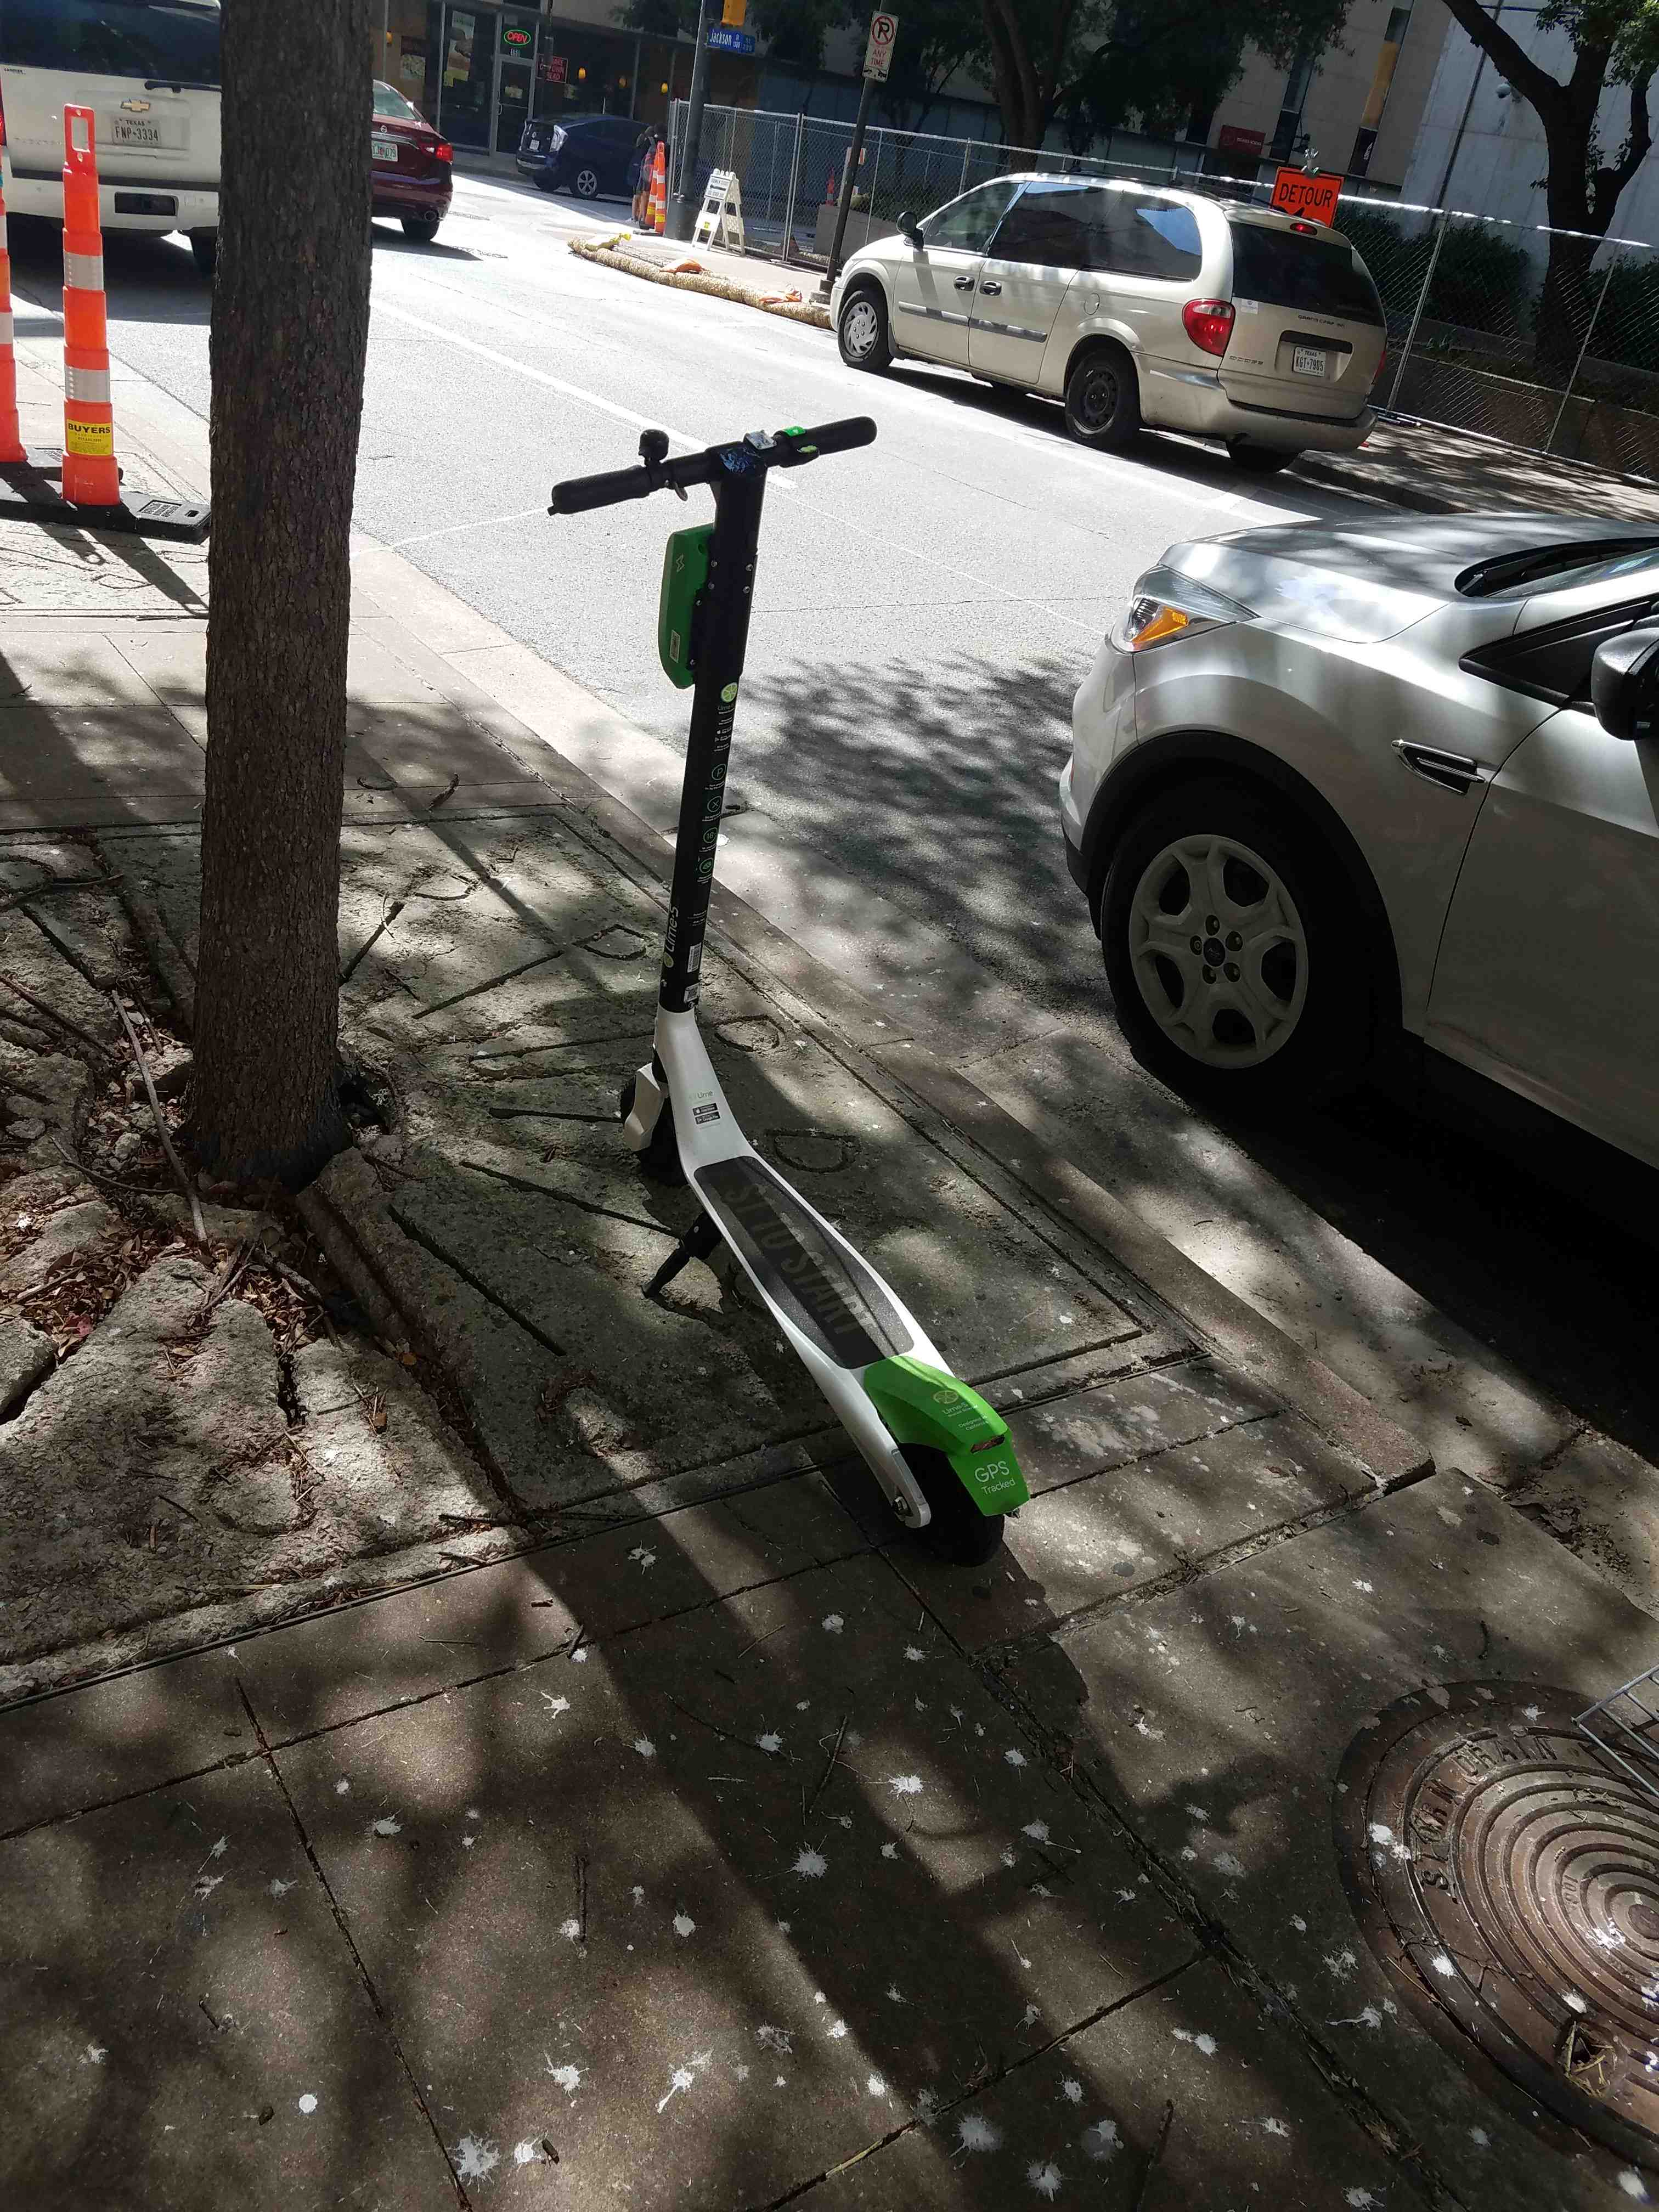scooter: (525, 406, 1091, 1569)
